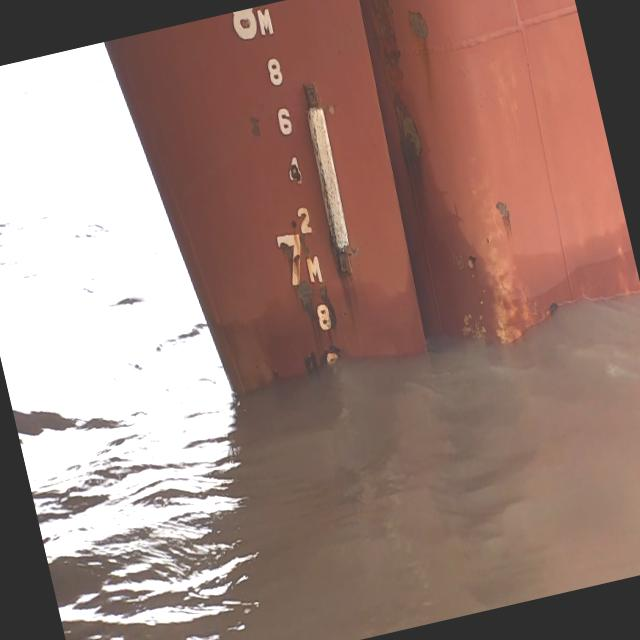Ship Draft Marks: (274, 230, 310, 286), (304, 252, 324, 287), (284, 154, 304, 187), (276, 106, 294, 137), (256, 6, 274, 37), (266, 57, 284, 86), (296, 205, 312, 236), (316, 302, 333, 331)
